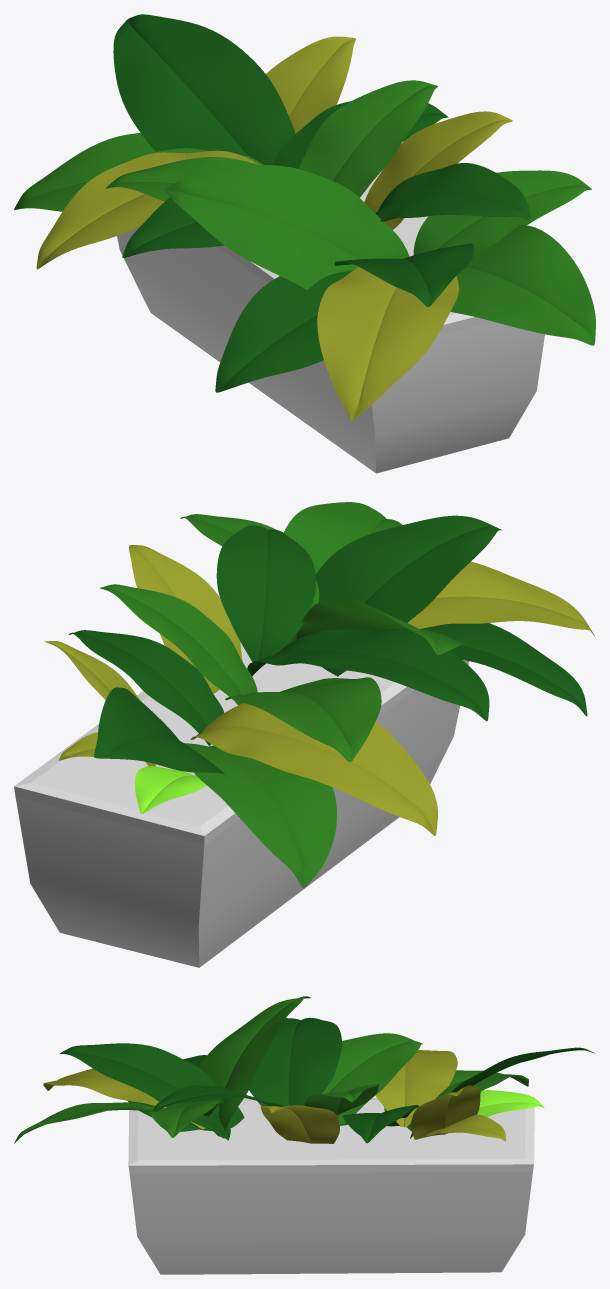
File: Planta_Grande.fbx
3 renders of one model, top to bottom at view 1: azimuth 30°, elevation 25°; view 2: azimuth 150°, elevation 25°; view 3: azimuth 270°, elevation 25°, orthographic. The views are drawn at different scales.
Parts seen in each view (by area): view 1: Box034, Object085, Object008, Object011, Object010, Object009, Object089, Object087, Object006, Object012, Object007, Object090 (+5 smaller); view 2: Box034, Object087, Object004, Object086, Object006, Object005, Object011, Object003, Object088, Object089, Object085, Object009 (+6 smaller); view 3: Box034, Object005, Object004, Object008, Object003, Object087, Object007, Object090, Object011, Object010, Object089, Object088 (+7 smaller).
Boxes of the visible parts, x1,y1,x2,y2 form: Box034: [117, 174, 544, 473]; Object085: [113, 14, 295, 165]; Object008: [165, 165, 409, 289]; Object011: [317, 267, 458, 421]; Object010: [450, 225, 595, 345]; Object009: [215, 269, 354, 392]; Object089: [299, 80, 437, 197]; Object087: [36, 150, 258, 269]; Object006: [375, 163, 530, 221]; Object012: [413, 170, 591, 255]; Object007: [364, 111, 512, 229]; Object090: [266, 36, 355, 133]; Box034: [14, 642, 469, 967]; Object087: [190, 703, 437, 835]; Object004: [284, 515, 501, 676]; Object086: [184, 743, 336, 887]; Object006: [216, 525, 316, 661]; Object005: [247, 628, 489, 721]; Object011: [408, 561, 594, 635]; Object003: [225, 677, 381, 761]; Object088: [69, 630, 224, 746]; Object089: [100, 584, 257, 705]; Object085: [93, 687, 226, 775]; Object009: [420, 623, 587, 716]; Box034: [128, 1097, 534, 1274]; Object005: [237, 1017, 342, 1106]; Object004: [60, 1043, 244, 1140]; Object008: [199, 996, 310, 1131]; Object003: [322, 1033, 422, 1125]; Object087: [375, 1050, 457, 1127]; Object007: [260, 1105, 339, 1143]; Object090: [410, 1085, 480, 1139]; Object011: [43, 1068, 205, 1129]; Object010: [14, 1102, 224, 1143]; Object089: [304, 1083, 379, 1125]; Object088: [342, 1105, 418, 1143].
Bounding box in the file's own units: 87.01 × 53.08 × 142.
